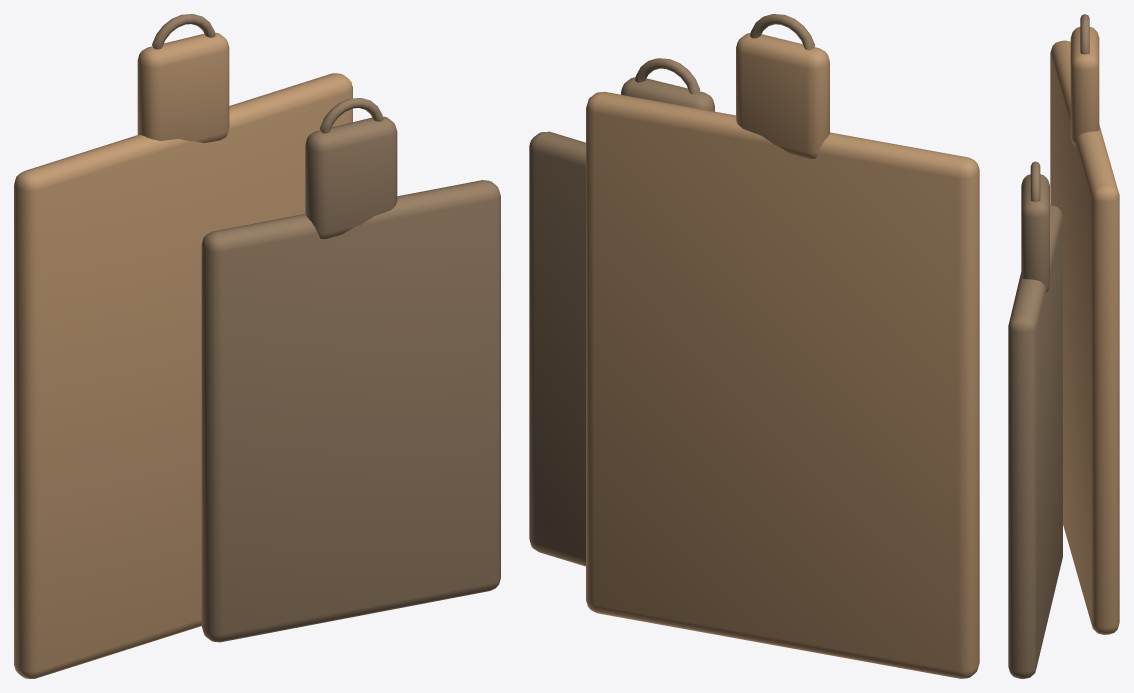
File: cutting_boards.glb
The picture shows the model from 3 angles, left to right: view 1: azimuth 30°, elevation 25°; view 2: azimuth 150°, elevation 25°; view 3: azimuth 270°, elevation 25°; orthographic projection. The views are drawn at different scales.
Parts seen in each view (by area): view 1: cutting_boards__accent, cutting_boards__body; view 2: cutting_boards__body, cutting_boards__accent; view 3: cutting_boards__body, cutting_boards__accent.
Part boxes in pixels (x1,y1,x2,y2): cutting_boards__accent: [152, 14, 500, 642]; cutting_boards__body: [14, 32, 352, 678]; cutting_boards__body: [586, 33, 979, 678]; cutting_boards__accent: [529, 14, 815, 566]; cutting_boards__body: [1050, 27, 1119, 634]; cutting_boards__accent: [1008, 14, 1089, 678].
Size of the model in its own units: 0.294 by 0.377 by 0.07.
